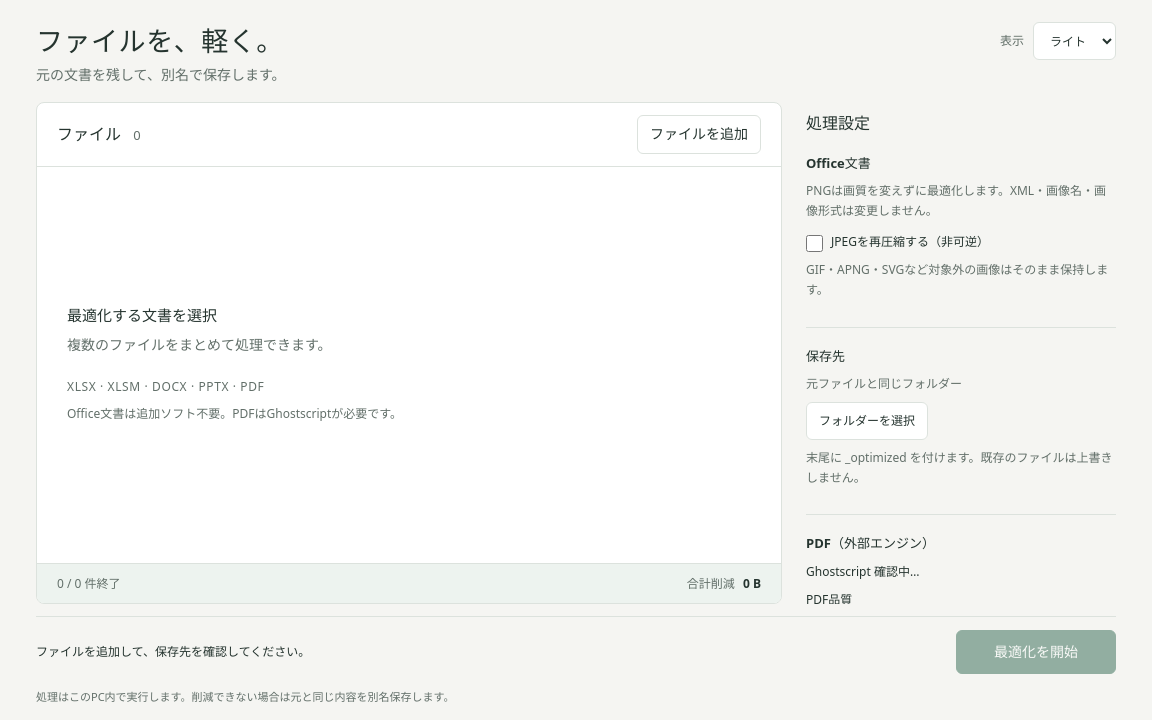
Test: multiple files queue, native errors are reported, and later jobs continue
Step 1. Click the button "ファイルを追加" → click(699, 134), box [637,115,761,154]
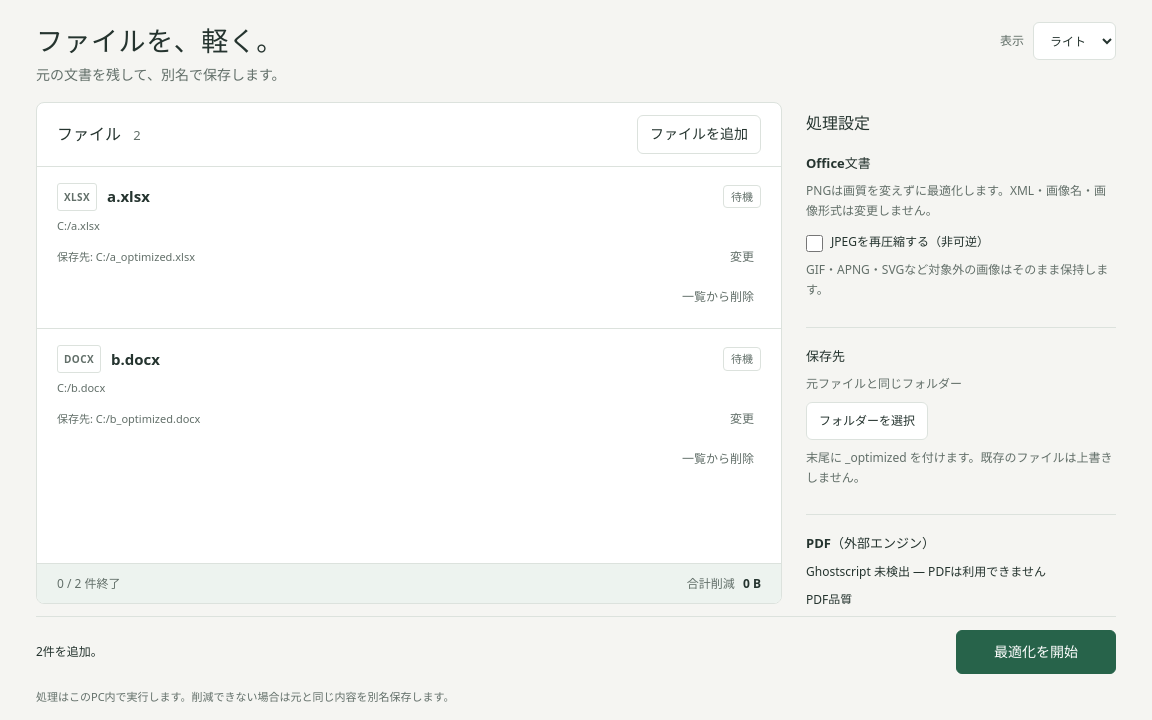
Result: the heading "a.xlsx" is shown at [107,186,150,206]
Result: the heading "b.docx" is shown at [111,349,160,369]
Step 2. Click the button "最適化を開始" → click(1036, 652), box [956,630,1116,674]
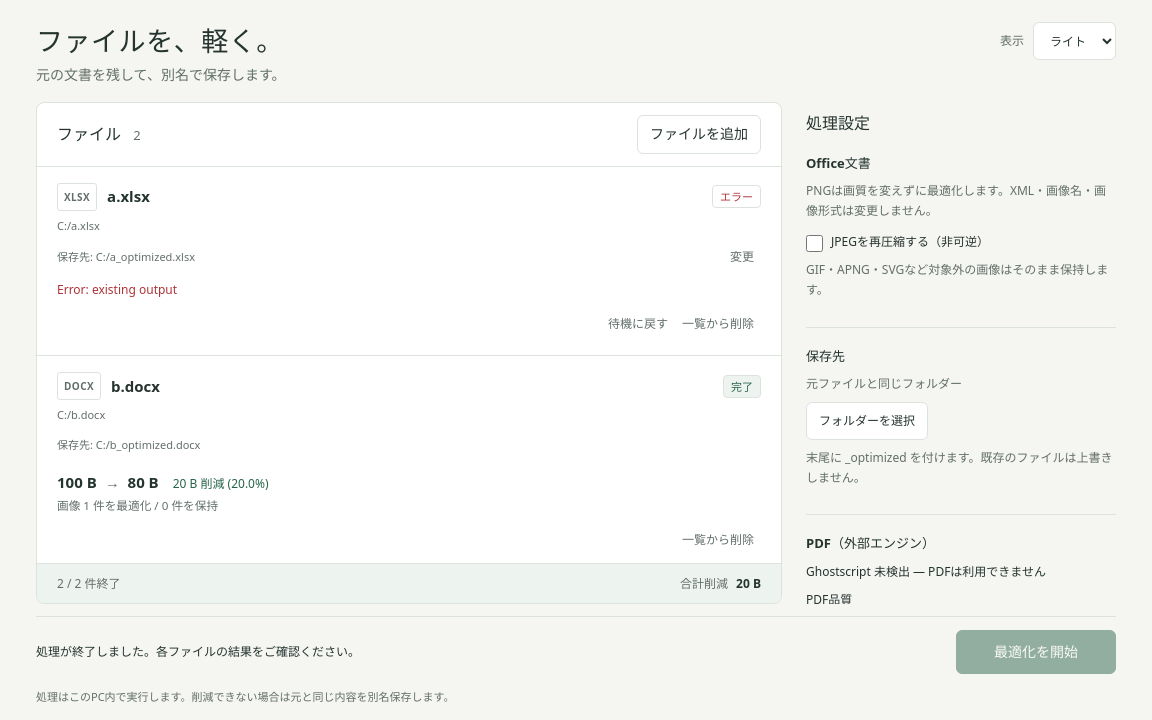
Result: the text "Error: existing output" is shown at [57,281,177,298]
Result: the text "完了" is shown at [723,375,761,398]
